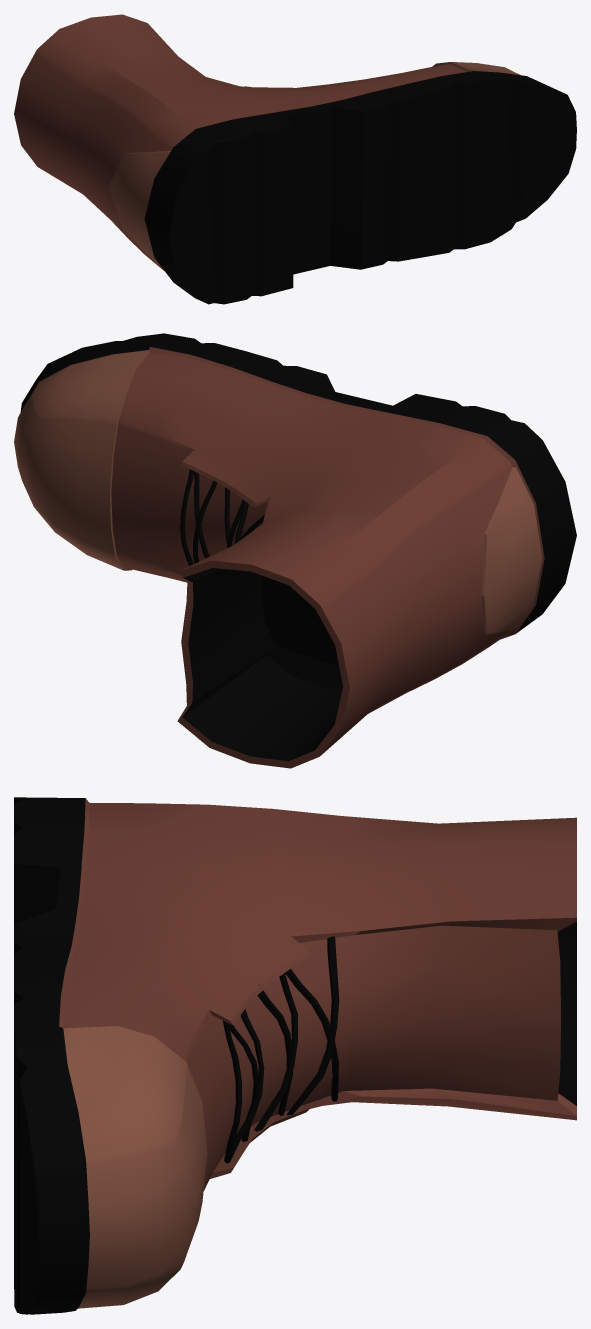
Rendered from Boots.fbx.
3 renders of one model, top to bottom at view 1: azimuth 30°, elevation 25°; view 2: azimuth 150°, elevation 25°; view 3: azimuth 270°, elevation 25°, orthographic. The views are drawn at different scales.
Parts seen in each view (by area): view 1: Boots; view 2: Boots; view 3: Boots.
Boxes of the visible parts, <box> form: Boots: <box>14,14,576,304</box>; Boots: <box>14,333,576,768</box>; Boots: <box>14,797,576,1314</box>.
Size of the model in its own units: 277 by 106 by 190.
